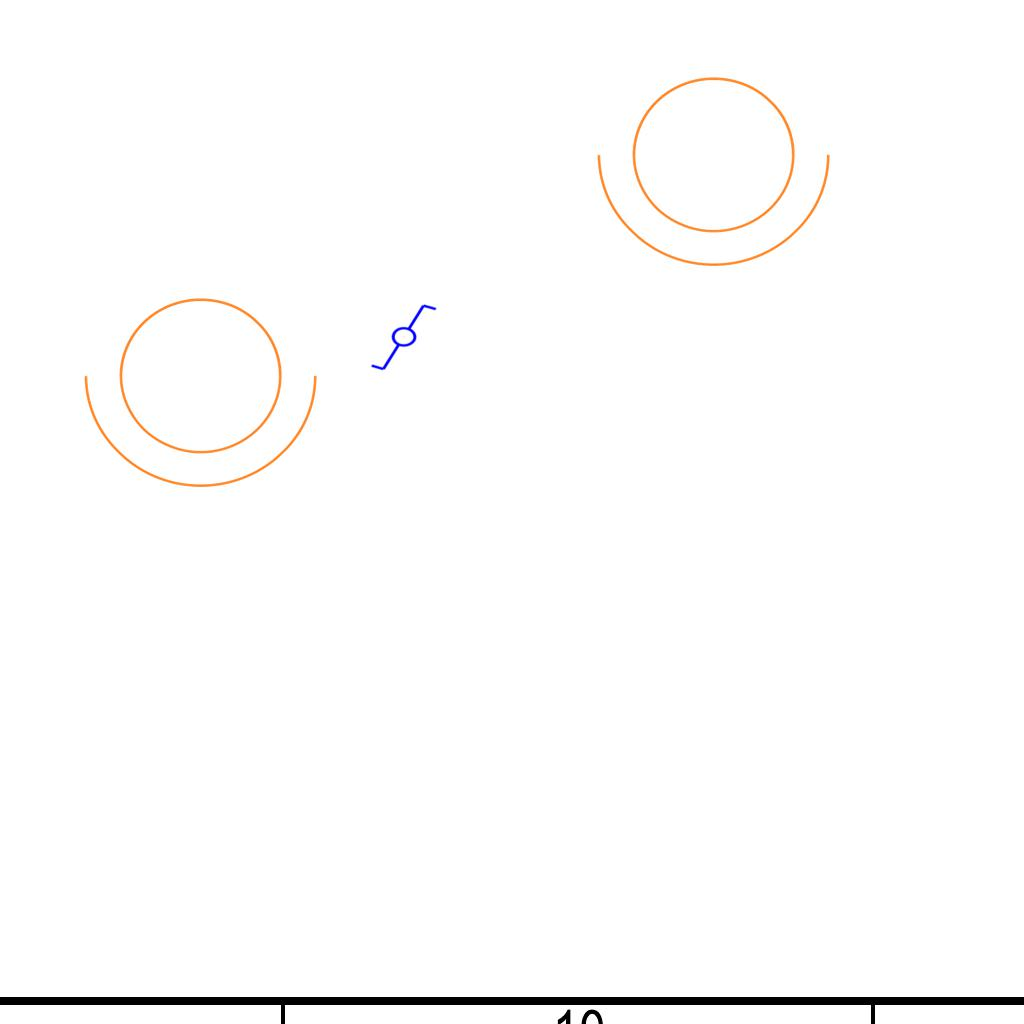Scheinwerfer_fuer_Alarmbeleuchtung: (75, 273, 339, 498), (588, 52, 852, 277)
Wechselschalter: (369, 302, 447, 374)
